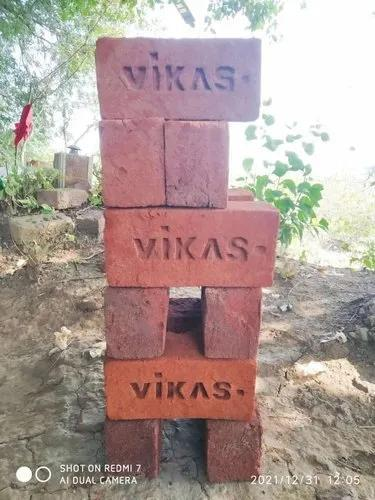brick: (105, 208, 280, 289), (94, 34, 261, 118), (105, 358, 254, 420), (99, 119, 164, 208), (164, 120, 229, 206), (106, 285, 166, 360), (204, 286, 259, 360)
